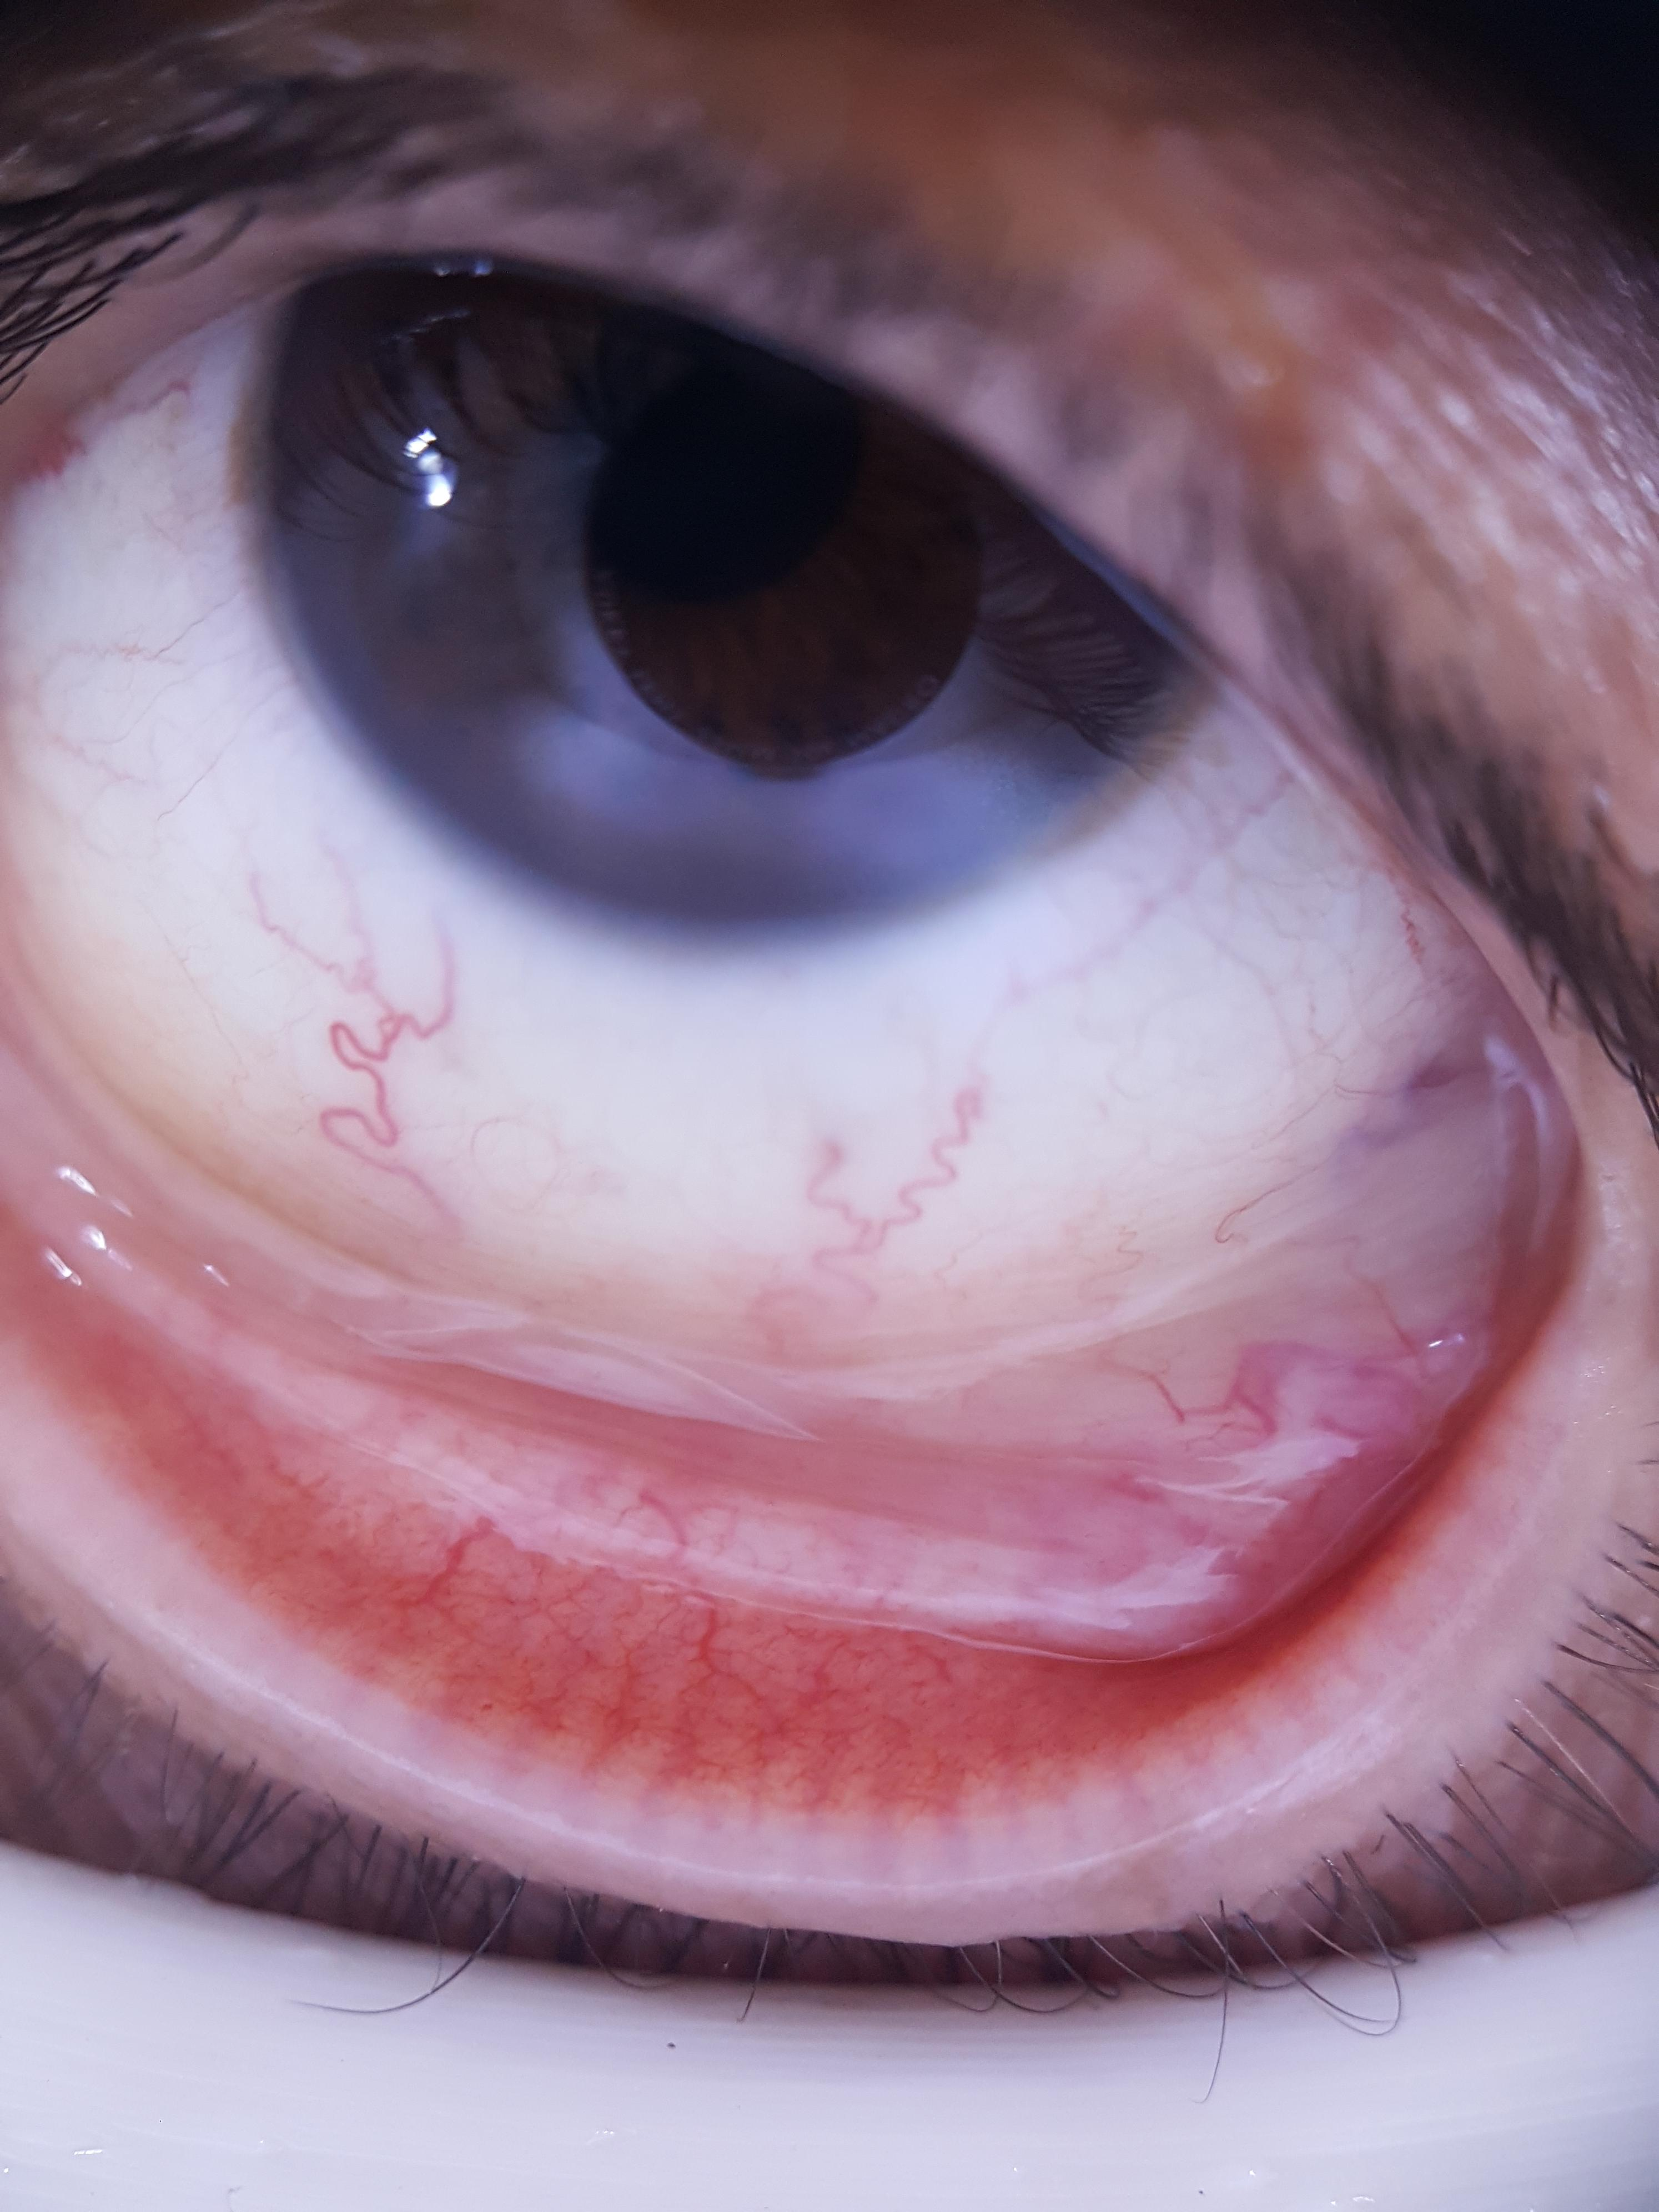forniceal: (0, 1033, 1560, 1660)
forniceal_palpebral: (0, 1024, 1575, 1810)
palpebral: (0, 1224, 1513, 1803)
